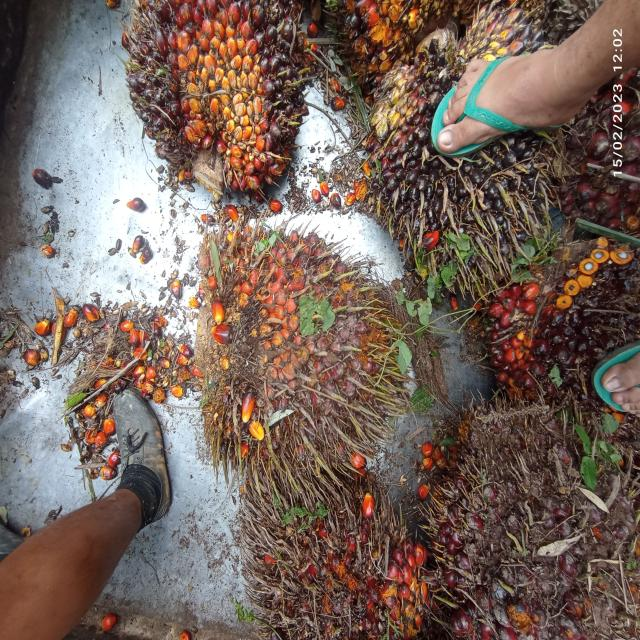fraksi 00: (434, 395, 640, 640), (128, 0, 322, 220)
fraksi 4: (178, 178, 422, 518), (251, 468, 427, 640)
